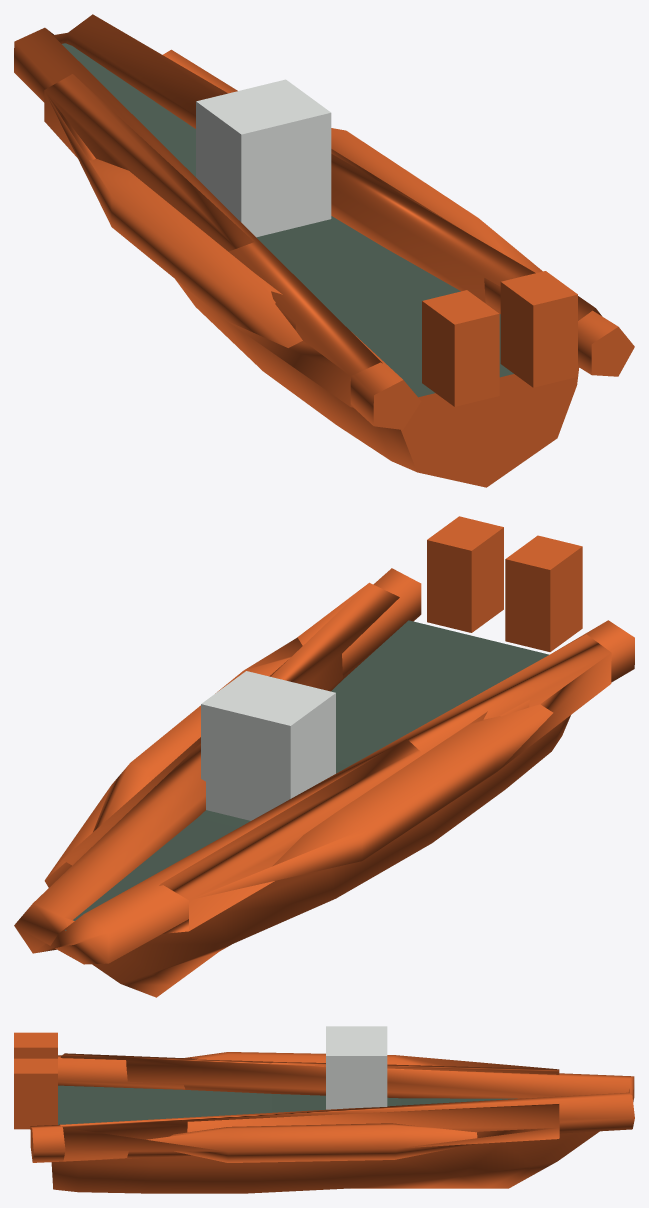
The model's file is rib_LOD2.glb.
The picture shows the model from 3 angles, top to bottom: view 1: azimuth 30°, elevation 25°; view 2: azimuth 150°, elevation 25°; view 3: azimuth 270°, elevation 25°; orthographic projection. The views are drawn at different scales.
Parts seen in each view (by area): view 1: Hull, Deck, Superstructure; view 2: Hull, Deck, Superstructure; view 3: Hull, Deck, Superstructure.
Part boxes in pixels (<box>): Hull: <box>14,14,634,487</box>; Deck: <box>62,43,513,397</box>; Superstructure: <box>196,79,331,237</box>; Hull: <box>14,516,634,997</box>; Deck: <box>65,620,548,930</box>; Superstructure: <box>201,671,335,820</box>; Hull: <box>14,1032,634,1193</box>; Deck: <box>58,1085,517,1124</box>; Superstructure: <box>326,1026,387,1109</box>.
Bounding box in the file's own units: 2.89 × 2.22 × 8.47.
